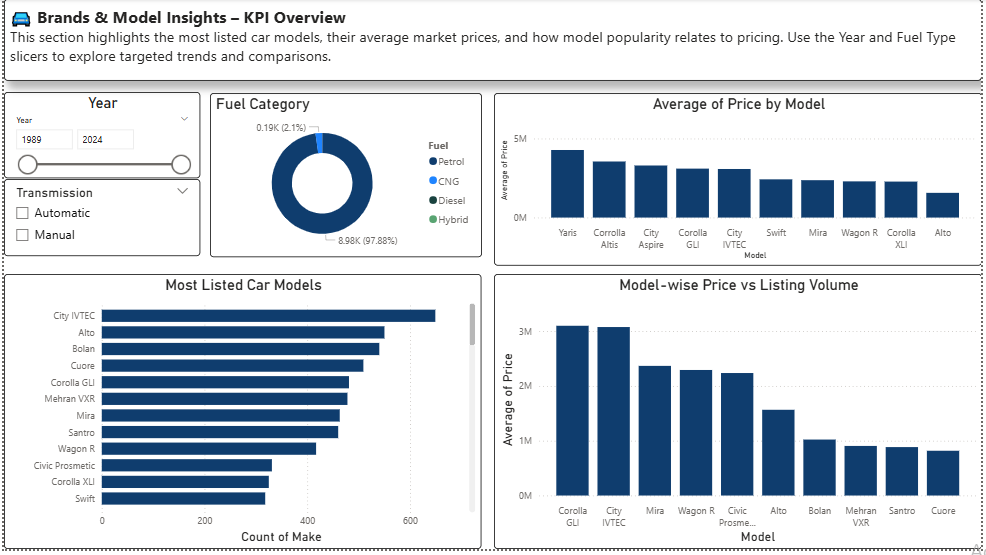

This screenshot's page, from the dashboard's own definition file:
{"tool":"powerbi","page":{"name":"Brands and Model Insights","canvas":[1280,720],"ordinal":1},"visuals":[{"type":"barChart","title":"Most Listed Car Models","fields":{"Y":["CountNonNull(OLX_cars_dataset00.Make)"],"Category":["OLX_cars_dataset00.Model"]},"box":[0,360,625,360],"z":0},{"type":"clusteredColumnChart","title":"Model-wise Price vs Listing Volume","fields":{"Y":["Avg(OLX_cars_dataset00.Price)"],"Category":["OLX_cars_dataset00.Model"]},"box":[640.8,360,639.4,360],"z":1000},{"type":"clusteredColumnChart","fields":{"Category":["OLX_cars_dataset00.Model"],"Y":["Avg(OLX_cars_dataset00.Price)"]},"box":[640.8,122.4,639.4,226.1],"z":2000},{"type":"slicer","title":"Year","fields":{"Values":["OLX_cars_dataset00.Year"]},"box":[0,122.3,256.5,113],"z":3000},{"type":"donutChart","title":"Fuel Category","fields":{"Category":["OLX_cars_dataset00.Fuel"],"Y":["CountNonNull(OLX_cars_dataset00.Ad ID)"]},"box":[269.3,122.4,355.7,214.6],"z":4000},{"type":"textbox","box":[0,0,1280.2,106.6],"z":5000},{"type":"slicer","fields":{"Values":["OLX_cars_dataset00.Transmission"]},"box":[0,235.3,256.5,101],"z":6000}]}

Visuals, with their boxes in screenshot pixels (x1, y1, x2, y2), scaled from the page's 1280x720 canvas onto the 986x555 screenshot:
"Most Listed Car Models" barChart: BBox(0, 278, 481, 554)
"Model-wise Price vs Listing Volume" clusteredColumnChart: BBox(494, 278, 985, 554)
clusteredColumnChart - OLX_cars_dataset00.Model x Avg(OLX_cars_dataset00.Price): BBox(494, 94, 985, 269)
"Year" slicer: BBox(0, 94, 198, 181)
"Fuel Category" donutChart: BBox(207, 94, 481, 260)
textbox: BBox(0, 0, 985, 82)
slicer - OLX_cars_dataset00.Transmission: BBox(0, 181, 198, 259)
